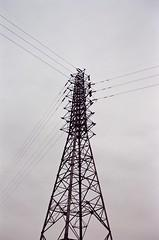power_tower: (39, 63, 121, 240)
